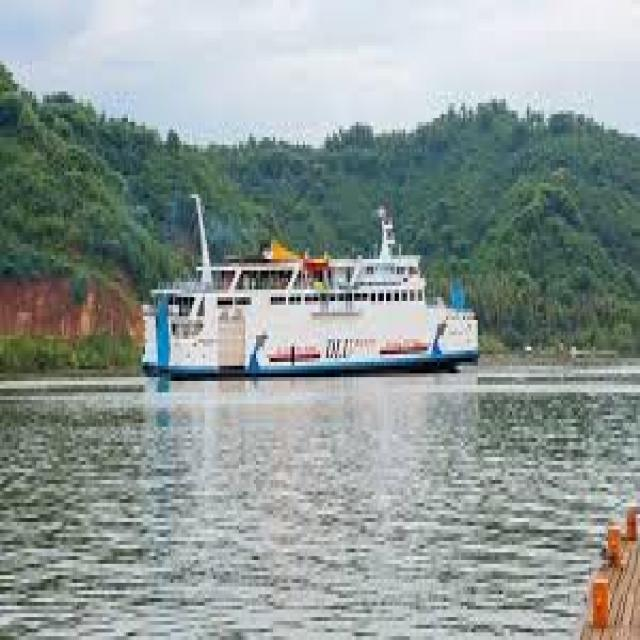passenger ship: (147, 208, 479, 374)
